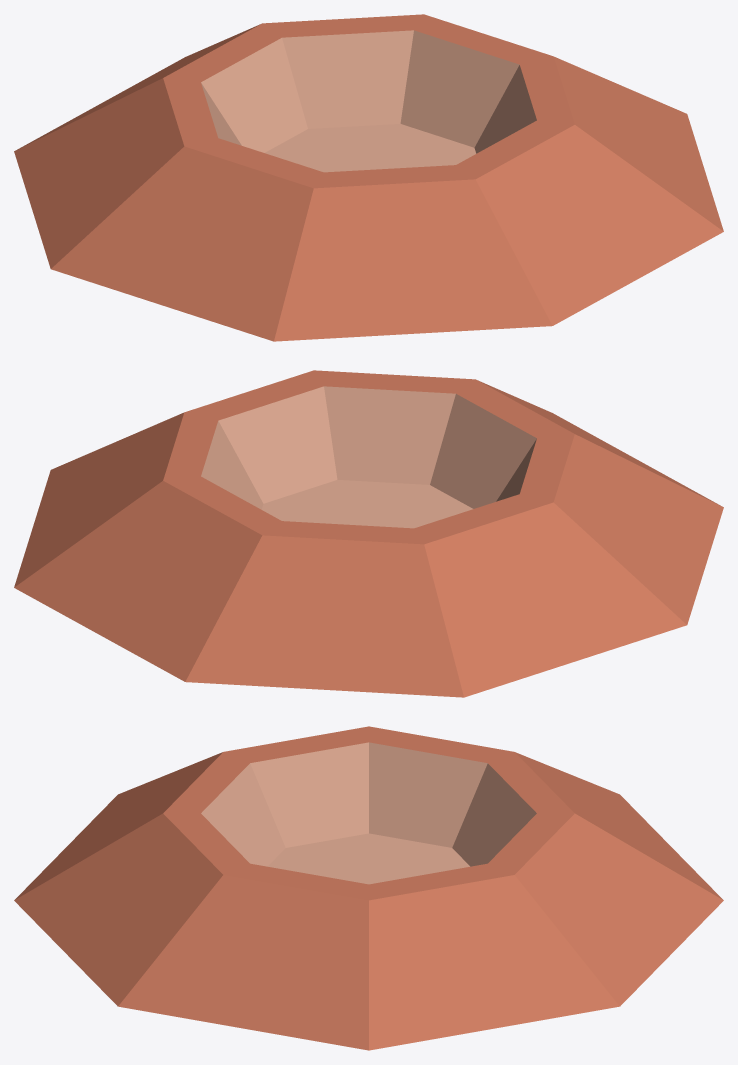
Rendered from craterLarge.glb.
The picture shows the model from 3 angles, top to bottom: view 1: azimuth 30°, elevation 25°; view 2: azimuth 150°, elevation 25°; view 3: azimuth 270°, elevation 25°; orthographic projection. The views are drawn at different scales.
Parts seen in each view (by area): view 1: craterLarge; view 2: craterLarge; view 3: craterLarge.
Part boxes in pixels (bbox=[...]): craterLarge: bbox=[14, 14, 723, 341]; craterLarge: bbox=[14, 370, 723, 697]; craterLarge: bbox=[14, 726, 723, 1050].
Size of the model in its own units: 0.886 by 0.12 by 0.886.
